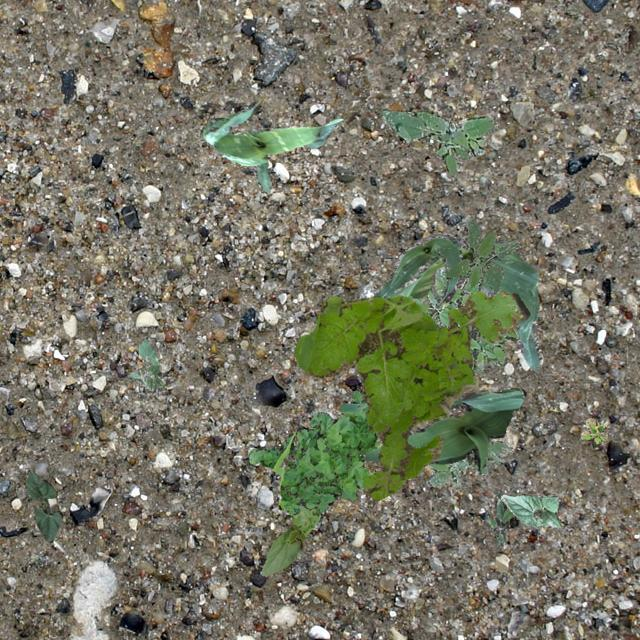crop: (390, 236, 540, 370), (362, 387, 526, 472), (200, 100, 342, 192), (372, 232, 462, 302), (260, 504, 322, 576), (26, 468, 61, 542), (500, 493, 560, 528), (126, 338, 162, 389)
weed: (294, 288, 528, 502), (248, 388, 378, 514), (408, 266, 518, 372), (379, 108, 496, 178), (444, 215, 518, 292), (426, 440, 512, 486), (484, 492, 514, 544), (580, 418, 606, 442)
